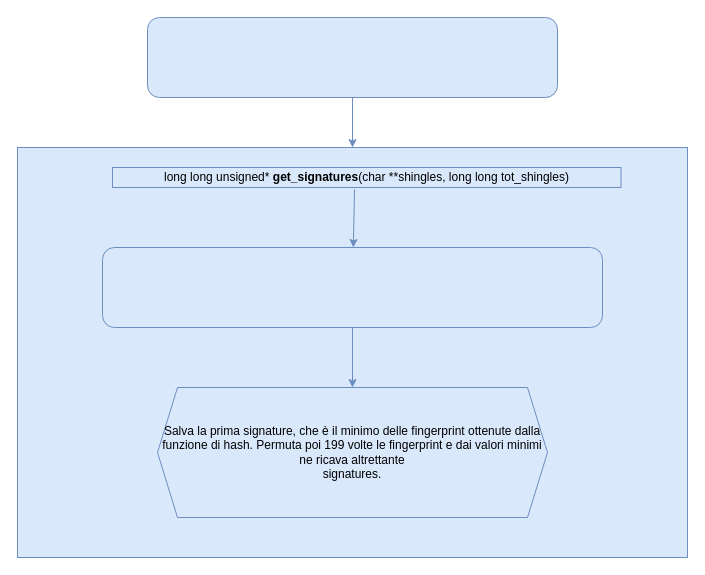
Image size: 705x575. Some labels were removed from this diagram. The shapes that lost their labels are listed below. From the top down, each one's centre as x and y in pixels, then its label:
At (x=352, y=57): "Main".
At (x=352, y=287): "int hash_FNV_1a (char *shingle, long long unsigned *hash)".
